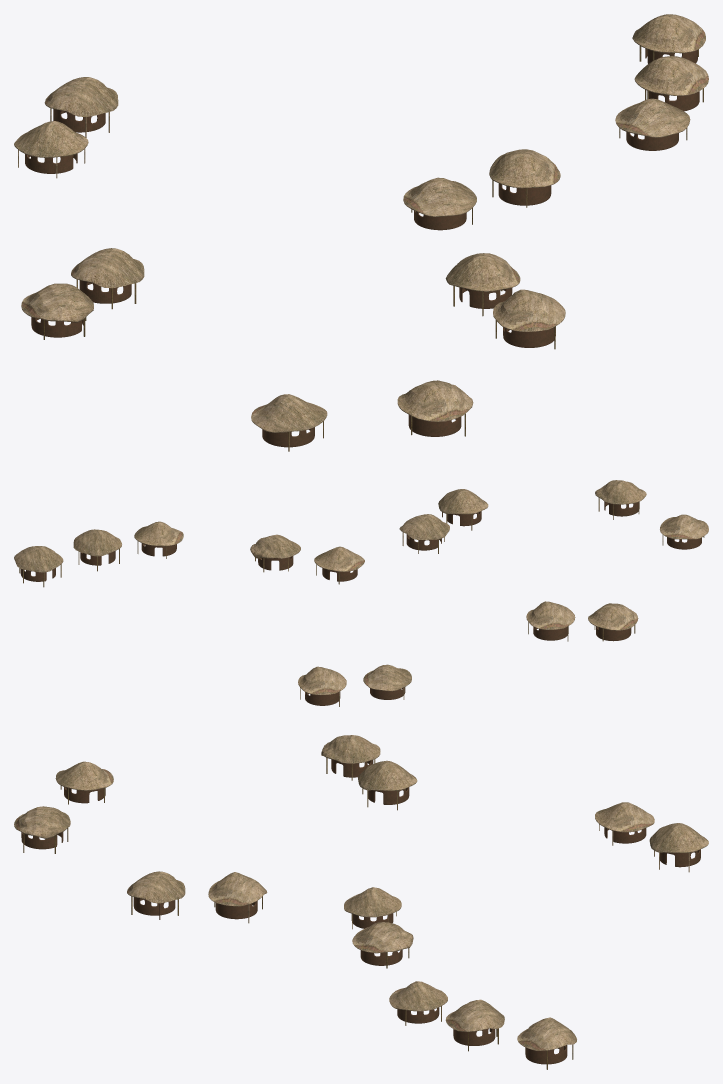
File: Houses.glb
3 renders of one model, top to bottom at view 1: azimuth 30°, elevation 25°; view 2: azimuth 150°, elevation 25°; view 3: azimuth 270°, elevation 25°, orthographic. The views are drawn at different scales.
Visible parts, largest first — view 1: Houses; view 2: Houses; view 3: Houses.
Part boxes in pixels (left/top/right/bottom): Houses: left=14, top=14, right=708, bottom=451; Houses: left=14, top=480, right=708, bottom=706; Houses: left=14, top=735, right=708, bottom=1069.
Bounding box in the file's own units: 34.8 × 2.23 × 33.
Materials: 3 (3 with a texture image).
